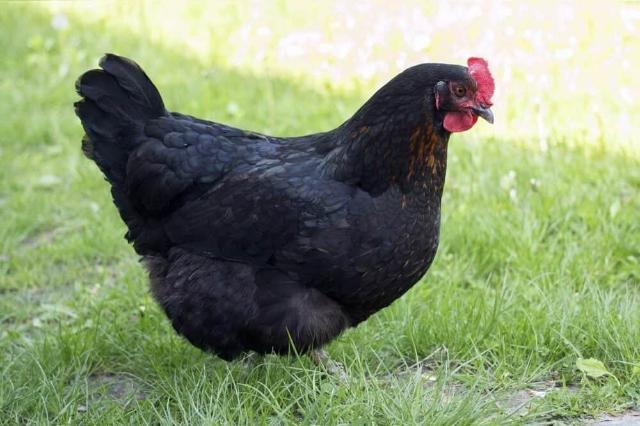Chicken: (73, 51, 495, 379)
